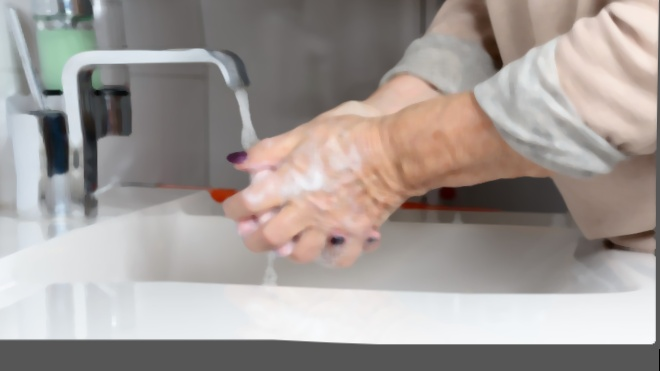washing hand: (134, 25, 406, 284)
